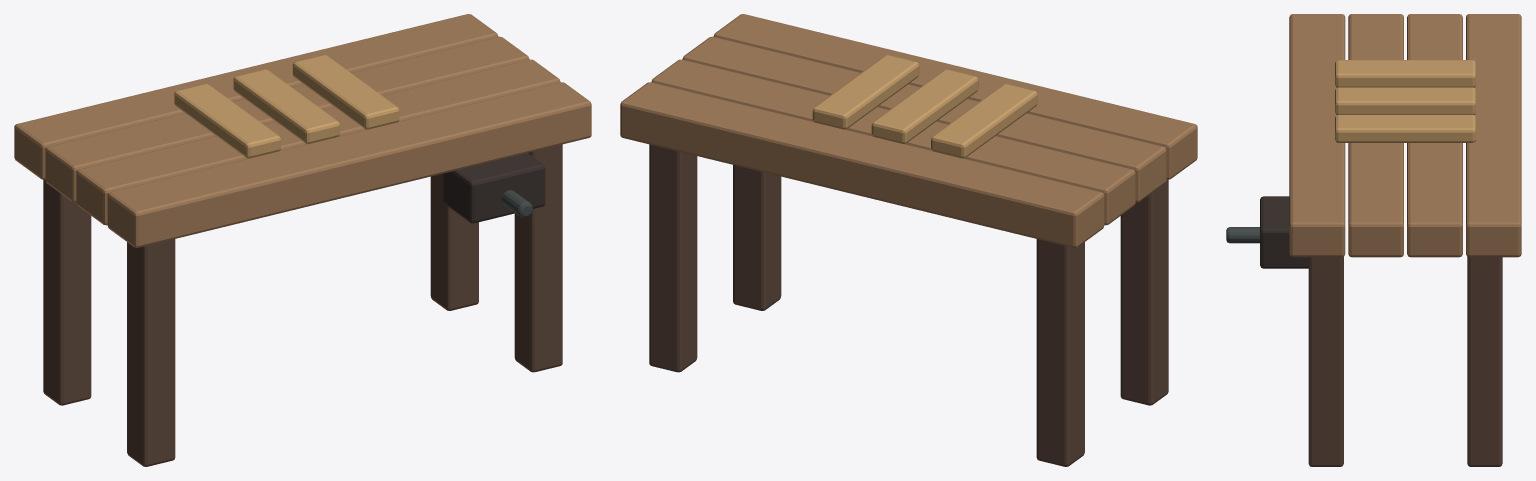
Rendered from prop_workbench__attachments.glb.
3 renders of one model, left to right at view 1: azimuth 30°, elevation 25°; view 2: azimuth 150°, elevation 25°; view 3: azimuth 270°, elevation 25°, orthographic. The views are drawn at different scales.
Visible parts, largest first — view 1: prop_workbench__attachments__mesh_00; view 2: prop_workbench__attachments__mesh_00; view 3: prop_workbench__attachments__mesh_00.
Boxes of the visible parts, x1,y1,x2,y2 form: prop_workbench__attachments__mesh_00: (14, 14, 591, 466); prop_workbench__attachments__mesh_00: (620, 14, 1197, 466); prop_workbench__attachments__mesh_00: (1226, 14, 1521, 466).
Size of the model in its own units: 1.7 by 1.01 by 1.01.
